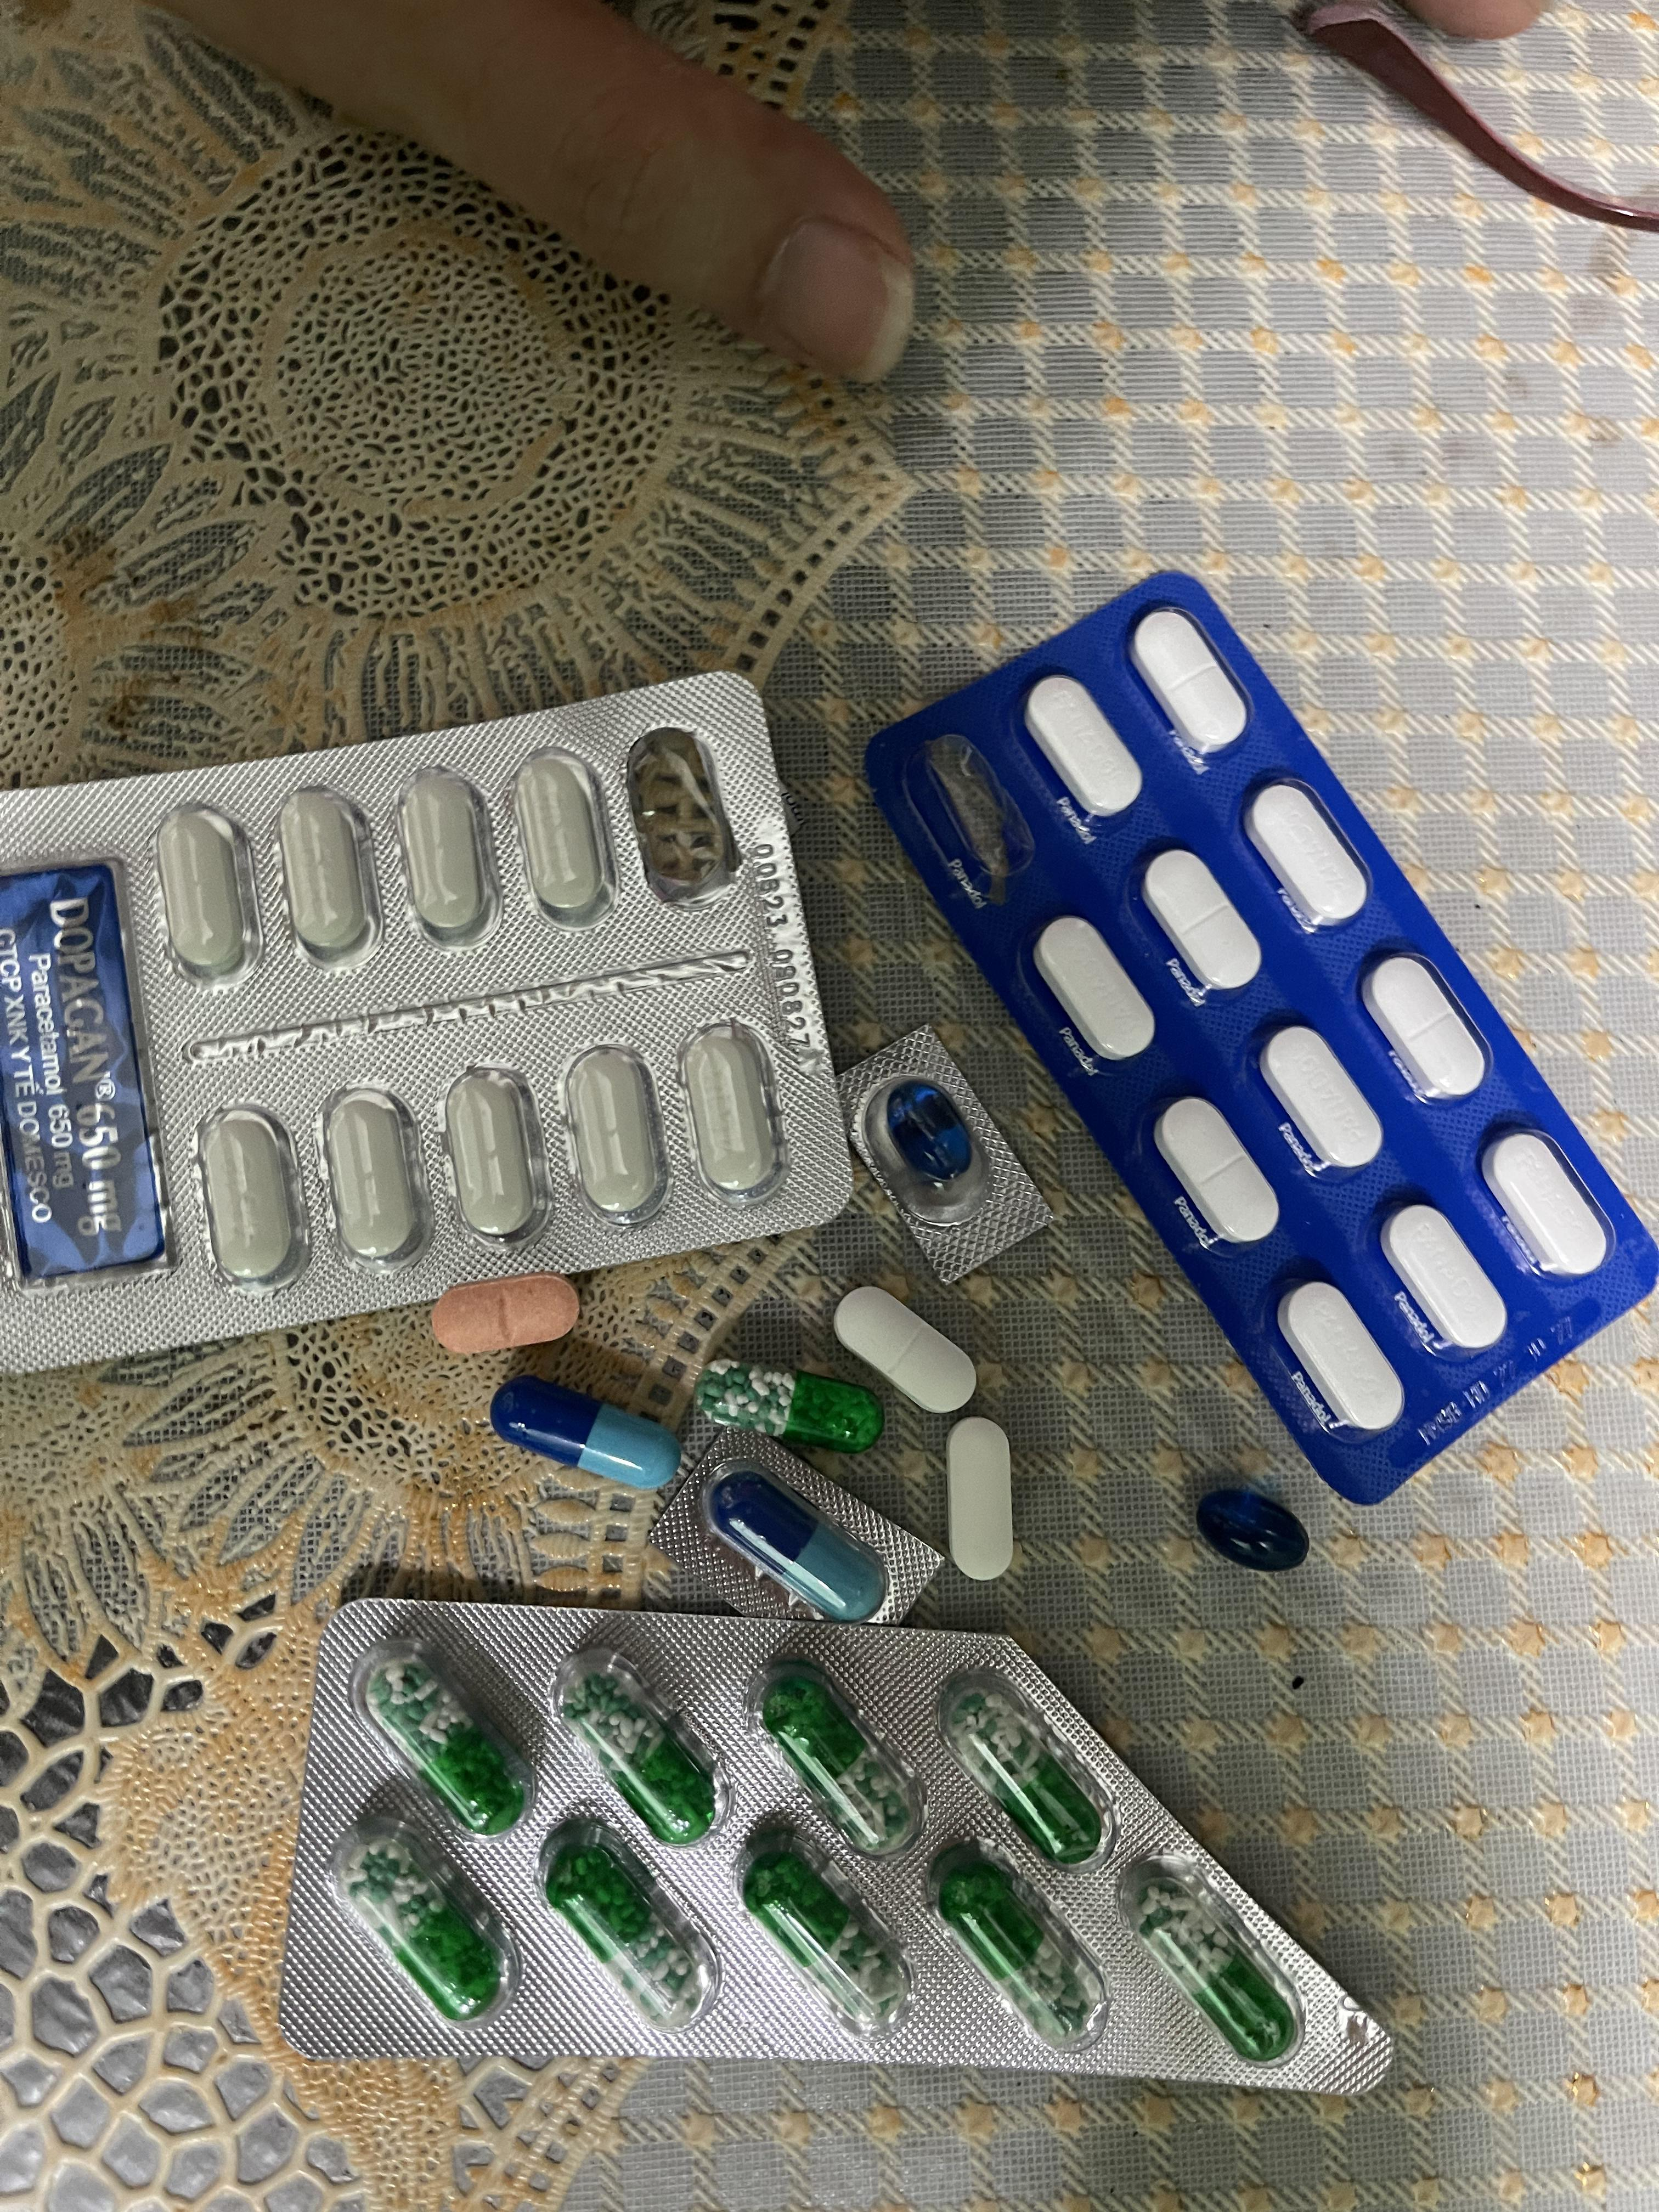Lincomyxin_500mg: (1195, 1489, 1310, 1575), (889, 1085, 974, 1181)
Loratadine_10mg: (429, 1273, 579, 1353)
Paracetamol_350mg: (1380, 1200, 1511, 1352), (1359, 948, 1488, 1099), (1277, 1282, 1403, 1437), (1483, 1130, 1614, 1278), (1246, 784, 1373, 934), (1260, 1022, 1385, 1172), (833, 1287, 979, 1414), (1155, 1097, 1272, 1247), (1033, 918, 1147, 1066), (1131, 610, 1244, 756), (1143, 848, 1256, 993), (1025, 676, 1138, 817)
Paracetamol_500mg: (195, 1104, 307, 1296), (321, 1087, 432, 1275), (680, 1024, 789, 1205), (443, 1068, 551, 1251), (565, 1045, 673, 1228), (277, 786, 382, 972), (397, 766, 502, 951), (155, 805, 260, 989), (512, 749, 615, 932), (946, 1416, 1014, 1581)
Paracetamol_650mg: (735, 1811, 927, 2043), (328, 1803, 523, 2027), (1114, 1844, 1307, 2066), (533, 1808, 716, 2031), (932, 1836, 1105, 2052), (354, 1635, 535, 1829), (751, 1655, 929, 1851), (554, 1642, 730, 1839), (941, 1667, 1108, 1865), (690, 1357, 882, 1453)
pill: (697, 1460, 890, 1625), (495, 1374, 692, 1493)
